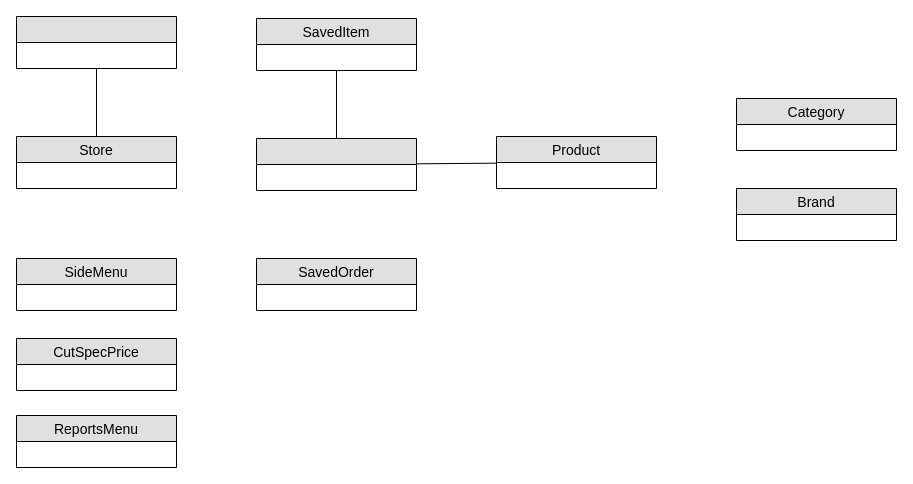
This 913x484 diagram has some shape labels left out. The shapes that lost their labels are listed below. From the top down, each one's box as (x1, y1, x2, y2) in pixels, then its label:
(16, 16, 176, 68): User/Salesman
(256, 138, 416, 190): ShoppingCartProduct
